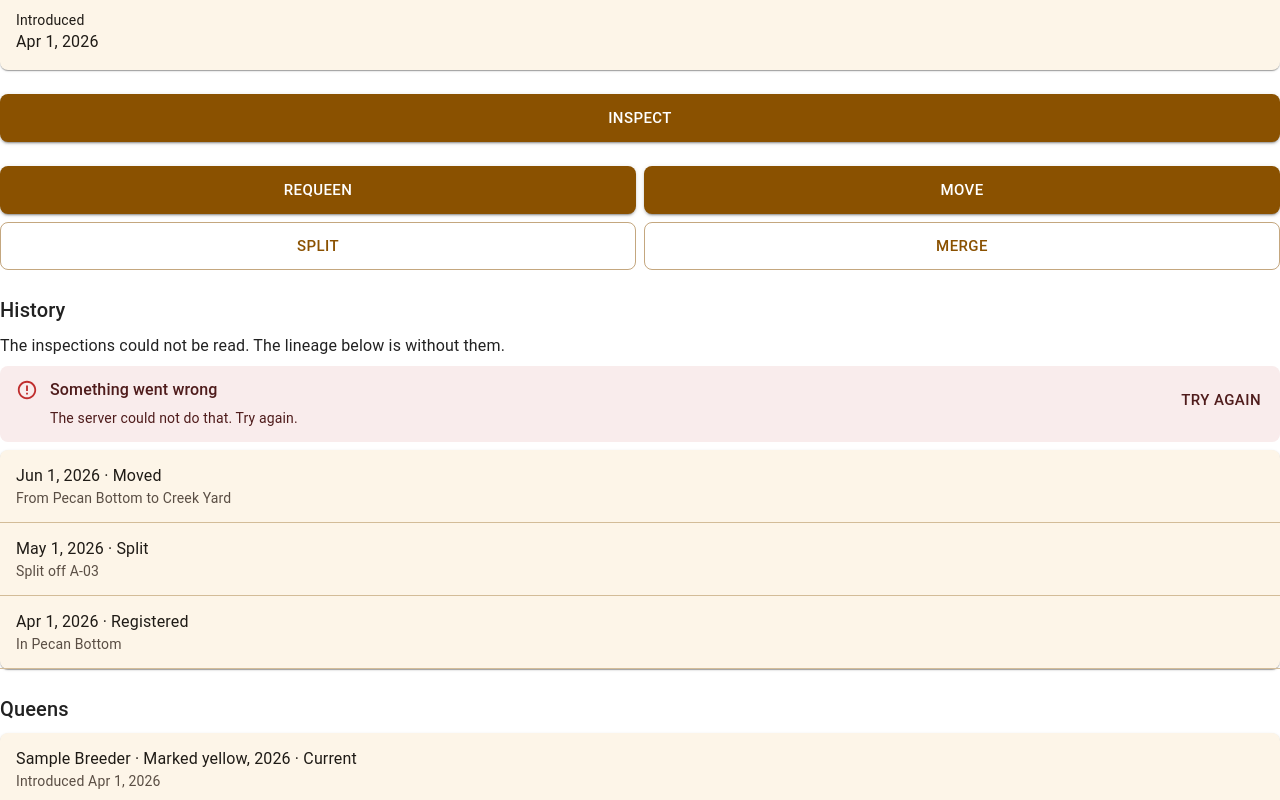
Test: ColonyDetail › should say the inspections could not be read and still show the lineage when only they fail
(page scrolled)
Expected: the heading "Something went wrong" is shown, x1=50 y1=380 x2=218 y2=399
Expected: the text "The inspections could not be read" is shown, x1=0 y1=336 x2=505 y2=355
Step 1. Click the button "Try again" → (1221, 400), box x1=1170 y1=376 x2=1272 y2=424
(page scrolled)
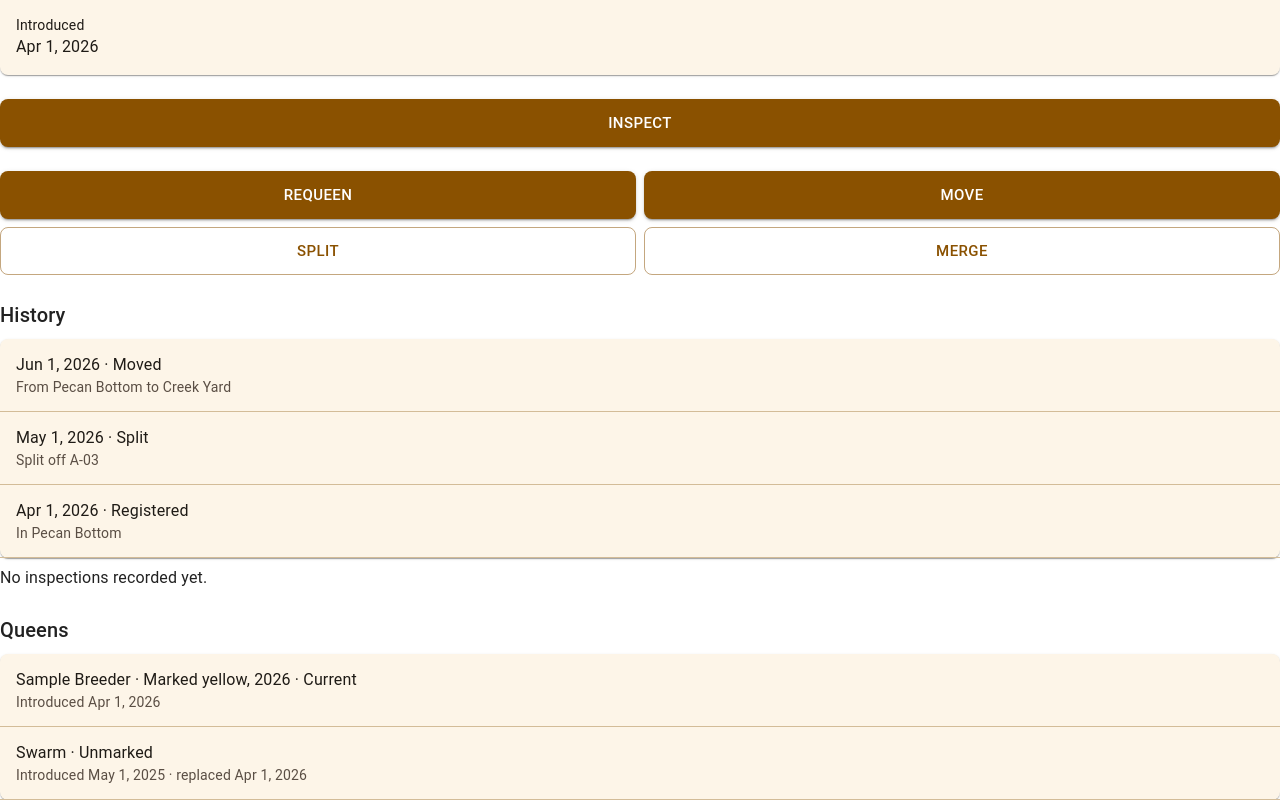
Result: the text "The inspections could not be read" is gone
